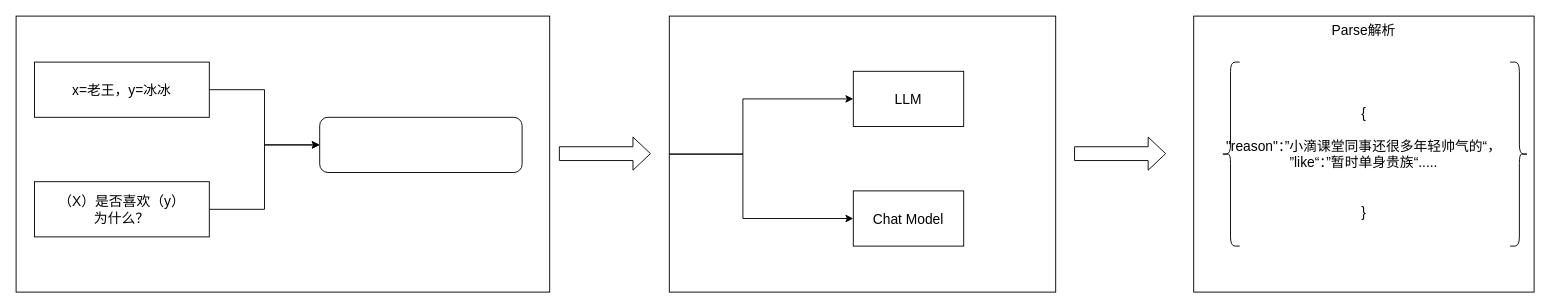
The diagram is 1550 pixels wide and 308 high, and some of its shapes have lost their labels. The shapes that lost their labels are listed below. From the top down, each one's box as (x1, y1, x2, y2) in pixels, then its label:
(15, 15, 550, 292): Format格式化
(319, 116, 522, 172): 老王是否喜欢冰冰 为什么？
(668, 15, 1056, 292): Predict预测
